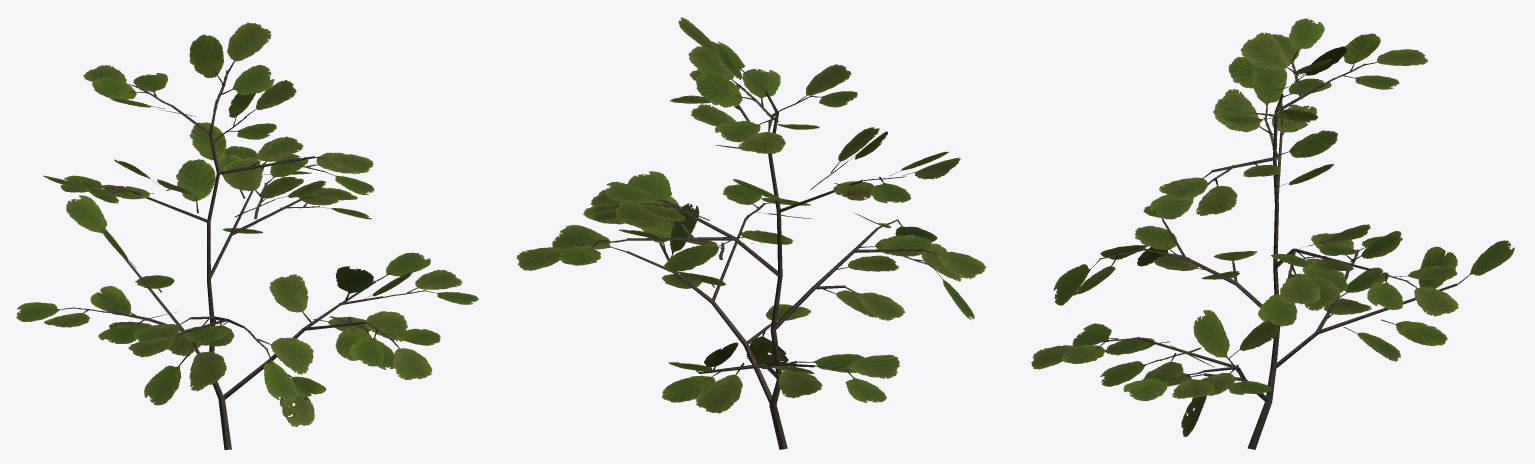
File: SM_BlackAlder_Seedling_02_PP_LOD3.gltf
The picture shows the model from 3 angles, left to right: view 1: azimuth 30°, elevation 25°; view 2: azimuth 150°, elevation 25°; view 3: azimuth 270°, elevation 25°; orthographic projection. The views are drawn at different scales.
Parts seen in each view (by area): view 1: SM_BlackAlder_Seedling_02_PP; view 2: SM_BlackAlder_Seedling_02_PP; view 3: SM_BlackAlder_Seedling_02_PP.
Part boxes in pixels (left/top/right/bottom): SM_BlackAlder_Seedling_02_PP: left=16, top=22, right=478, bottom=449; SM_BlackAlder_Seedling_02_PP: left=516, top=17, right=986, bottom=449; SM_BlackAlder_Seedling_02_PP: left=1031, top=18, right=1514, bottom=449.
Bounding box in the file's own units: 0.8686 × 0.8623 × 0.9098.
Materials: 1 (1 with a texture image).
